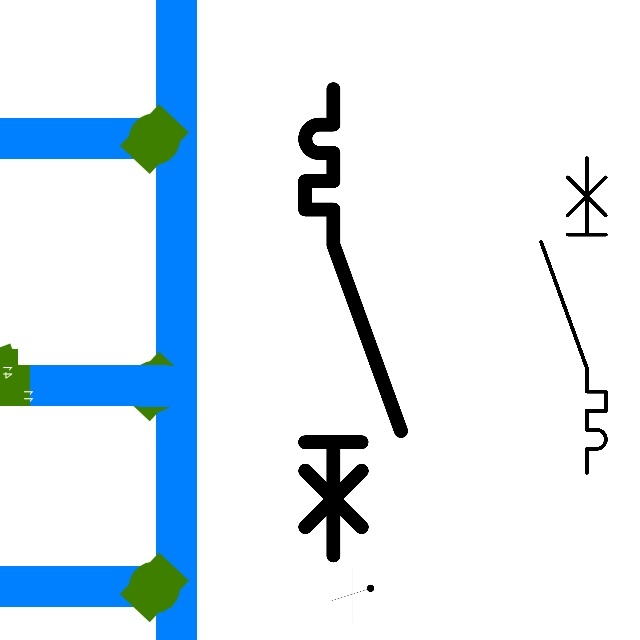interruptor_termomagnetico: (293, 77, 413, 567), (533, 150, 614, 481)
